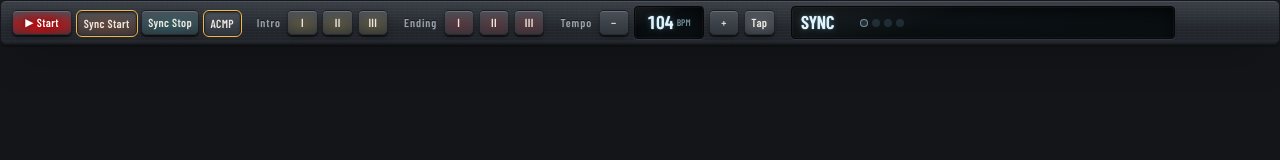
Scenario: transport section › Start / Stop starts and stops the band, and shows which it will do
Click the button "▶ Start". click: point(42, 23)
box: [12,10,72,35]
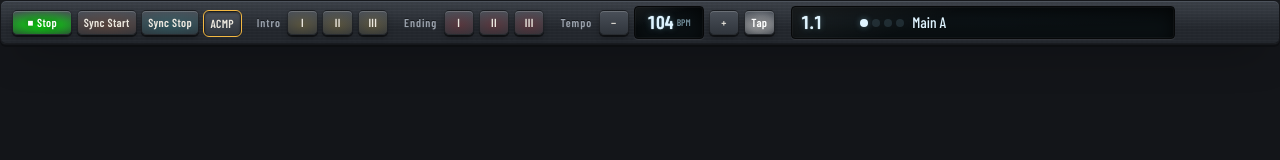
Now the button "■ Stop" is shown, box [12,10,72,35]
Now the text with class "bar" reads "1.1", box [801,11,822,33]
